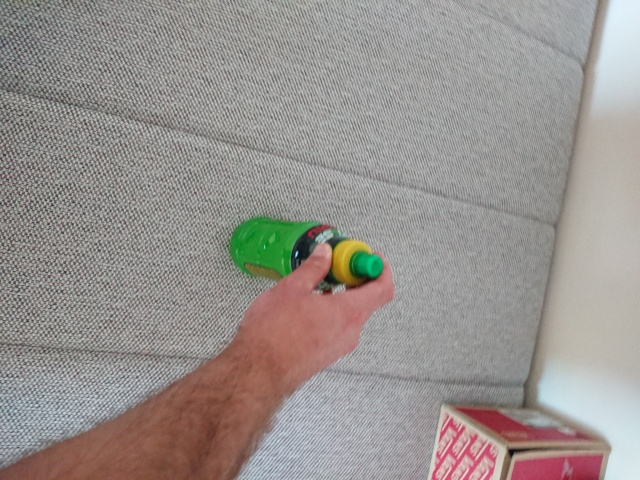Vindi Iso Sport Lemon-Grapefruit 500mL: (226, 214, 385, 294)
